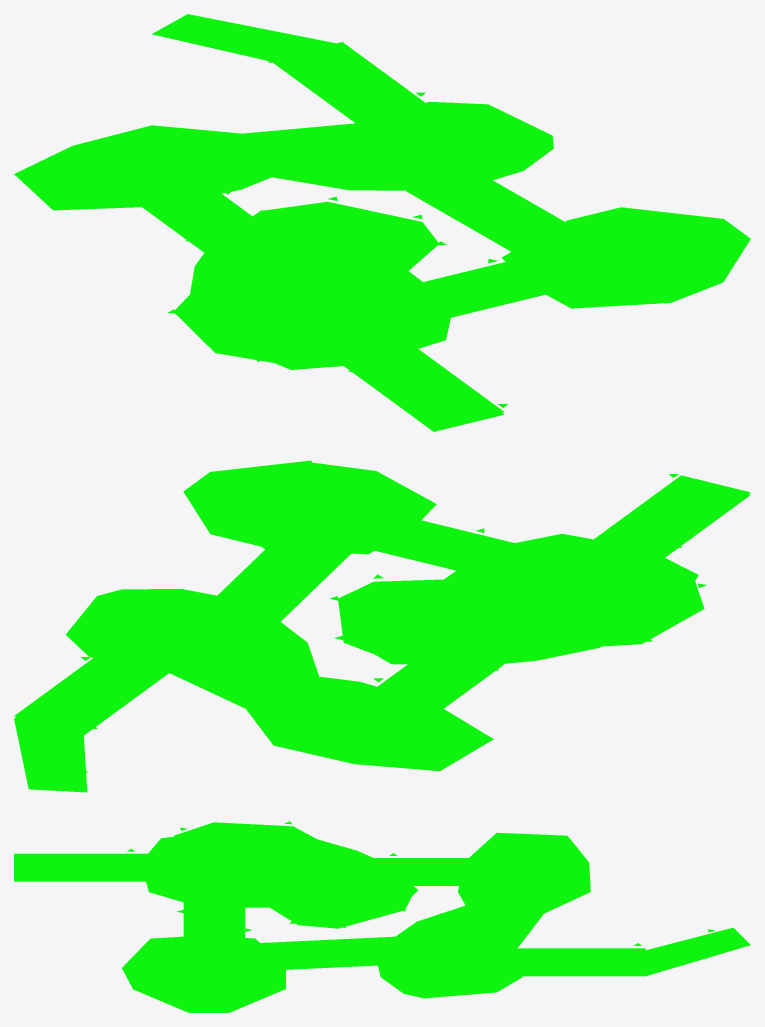
File: s02b_ic1-floor.glb
The picture shows the model from 3 angles, top to bottom: view 1: azimuth 30°, elevation 25°; view 2: azimuth 150°, elevation 25°; view 3: azimuth 270°, elevation 25°; orthographic projection. The views are drawn at different scales.
Parts seen in each view (by area): view 1: collision_floor-colonly; view 2: collision_floor-colonly; view 3: collision_floor-colonly.
Part boxes in pixels (<box>): collision_floor-colonly: <box>14,14,750,431</box>; collision_floor-colonly: <box>14,460,750,792</box>; collision_floor-colonly: <box>14,821,750,1012</box>.
Bounding box in the file's own units: 43.91 × 0.4219 × 71.78.
